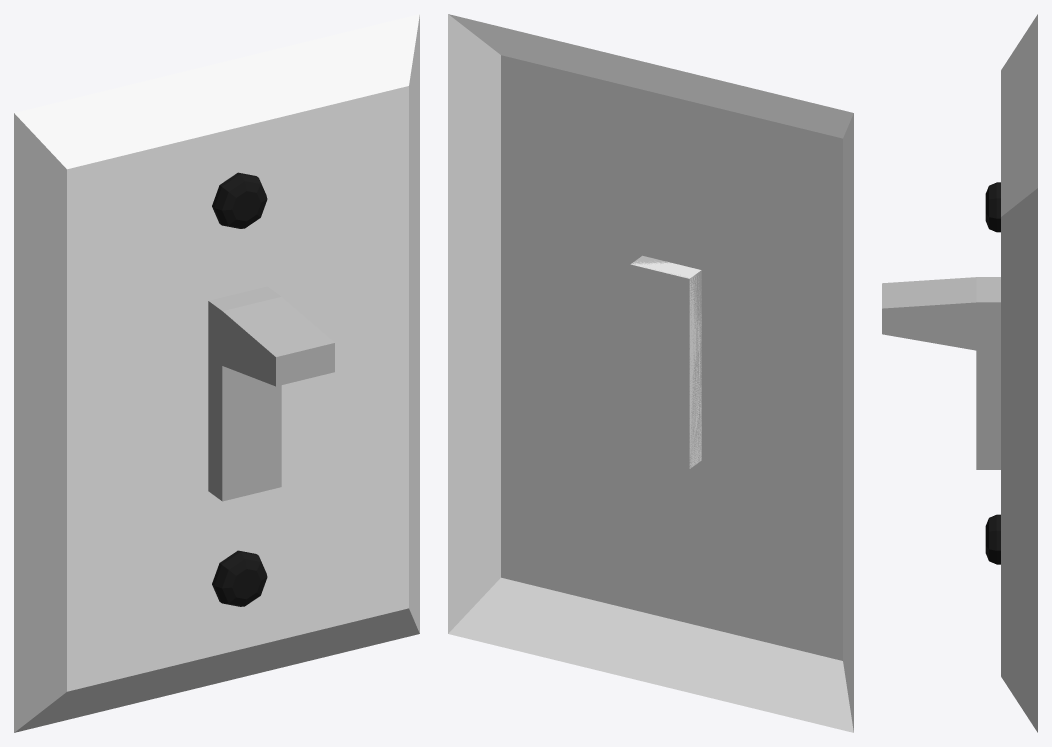
Rendered from Prop_WallSwitch.fbx.
3 views of the same model, side by side, from view 1: azimuth 30°, elevation 25°; view 2: azimuth 150°, elevation 25°; view 3: azimuth 270°, elevation 25° (orthographic). The views are drawn at different scales.
Visible parts, largest first — view 1: Prop_WallSwitch; view 2: Prop_WallSwitch; view 3: Prop_WallSwitch.
Part boxes in pixels (x1,y1,x2,y2): Prop_WallSwitch: [14, 14, 419, 732]; Prop_WallSwitch: [448, 14, 853, 732]; Prop_WallSwitch: [882, 14, 1037, 732].
Bounding box in the file's own units: 9.61 × 14.03 × 3.63.
